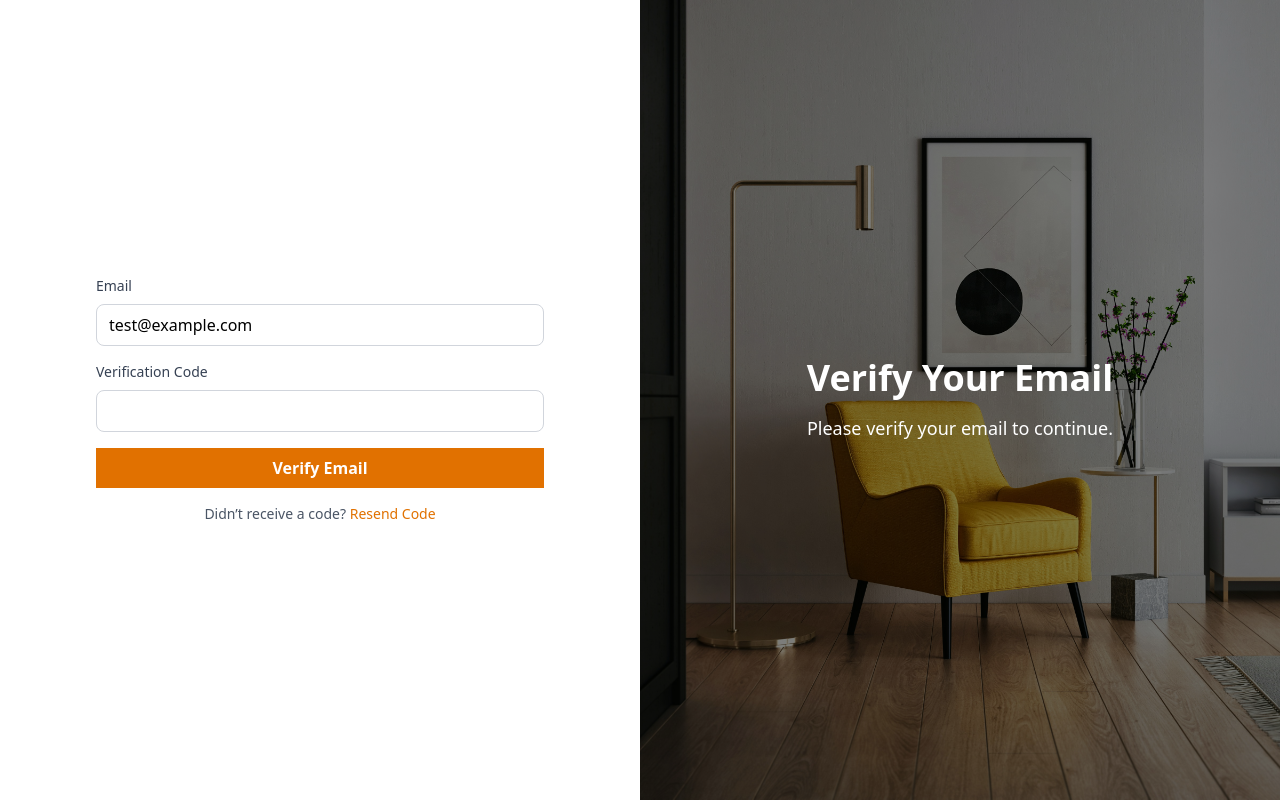
Scenario: EmailVerificationPage › handles resend verification code
Click the button "Resend Code". click: click(393, 514)
box: top-left (350, 504), bottom-right (436, 524)
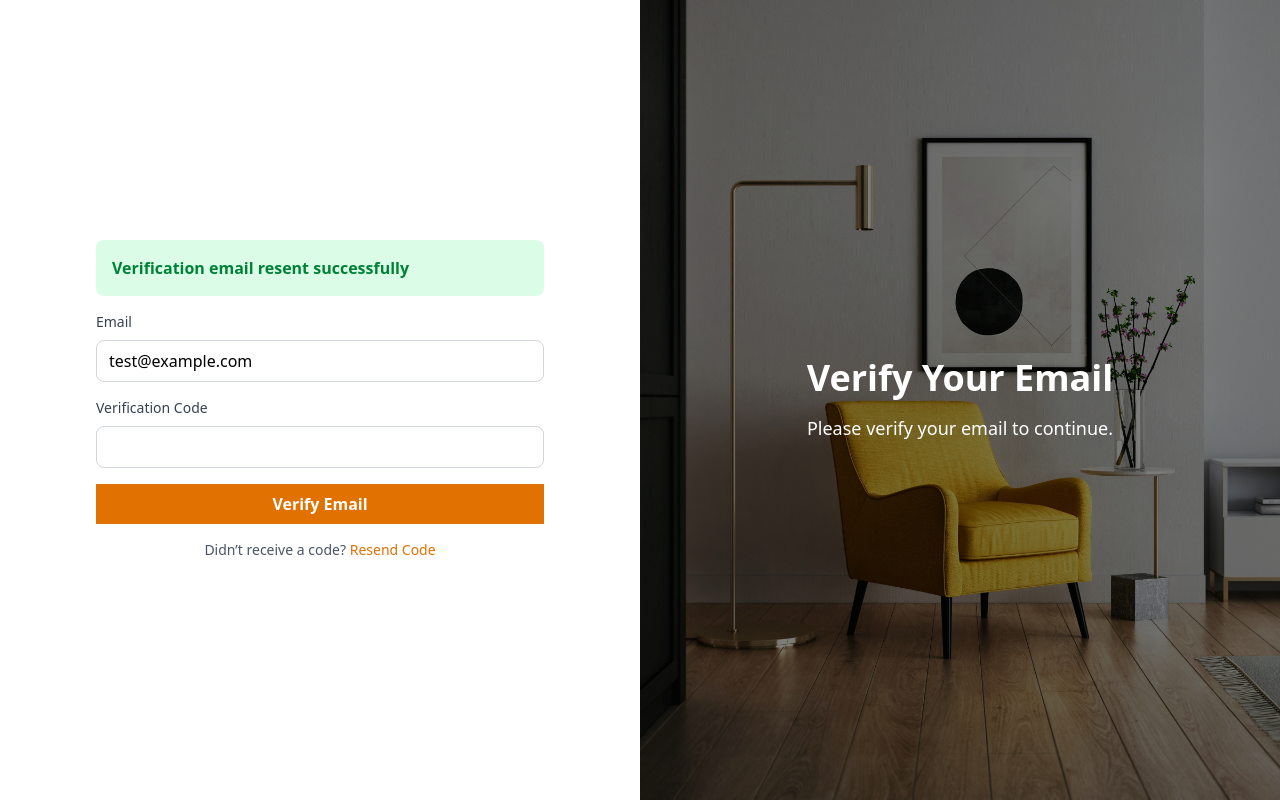
Check: the text "Verification email resent successfully" is shown, box top-left (112, 257), bottom-right (409, 279)
